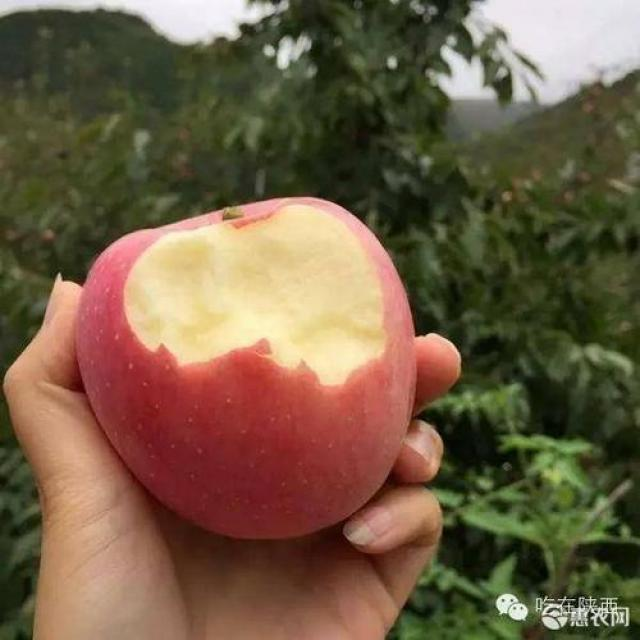Rotten: (82, 201, 432, 572)
